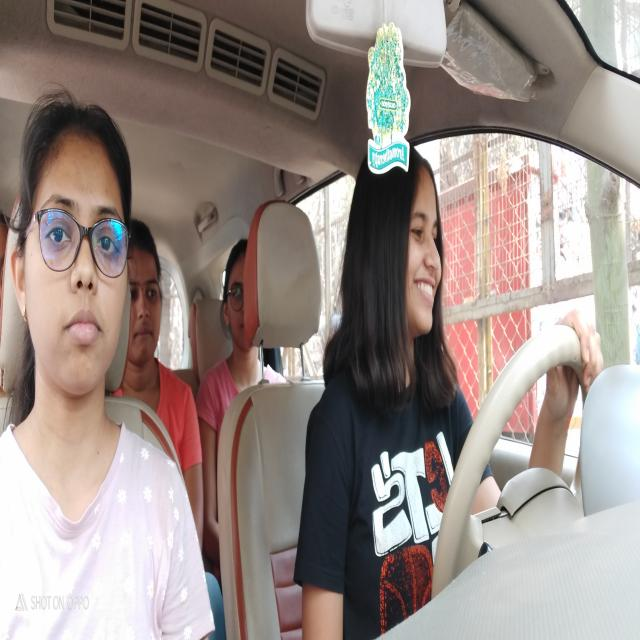person: (26, 120, 129, 398), (402, 161, 444, 343), (131, 224, 163, 365), (224, 243, 250, 350)
